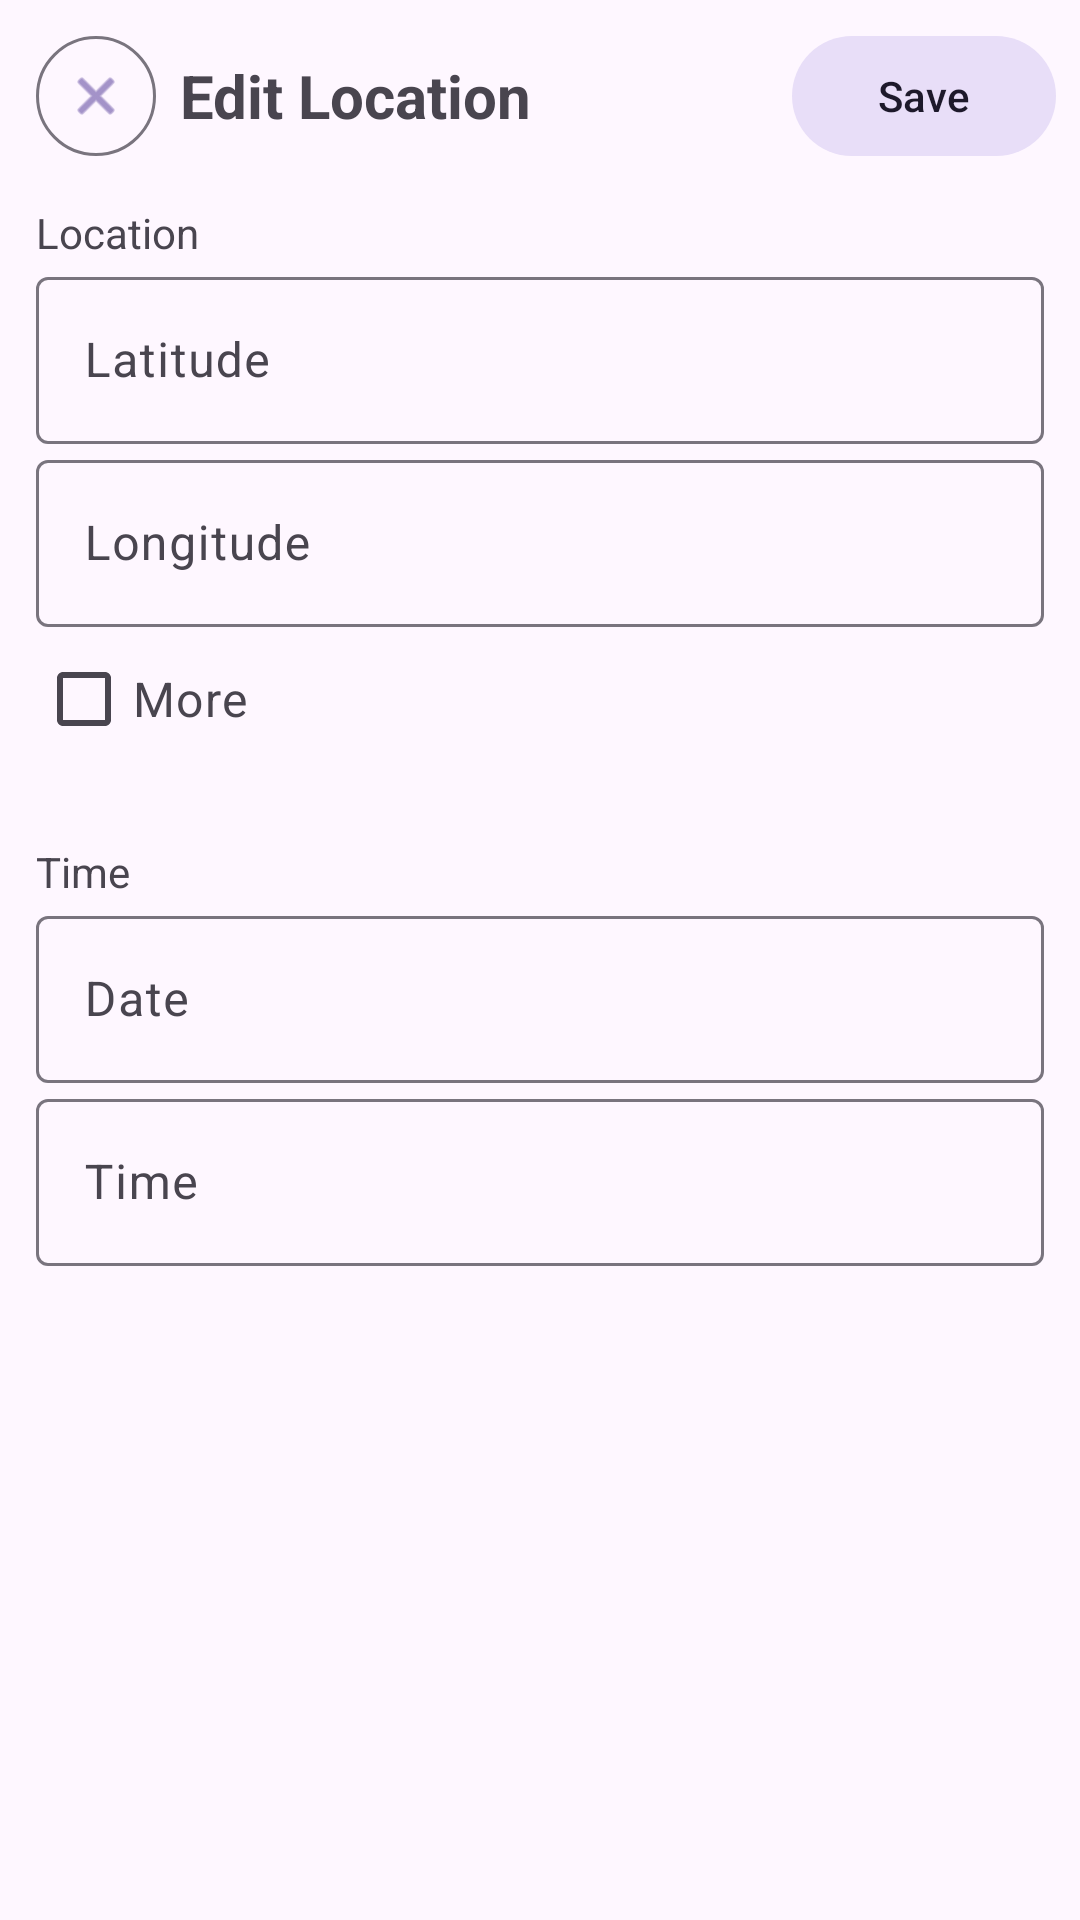

Screen size 1080w x 1920h. Icon name, then its box in pixels as {"x1": x1, "y1": y1, "x2": x2, "y2": y2}:
close clear cancel: {"x1": 36, "y1": 36, "x2": 156, "y2": 156}
